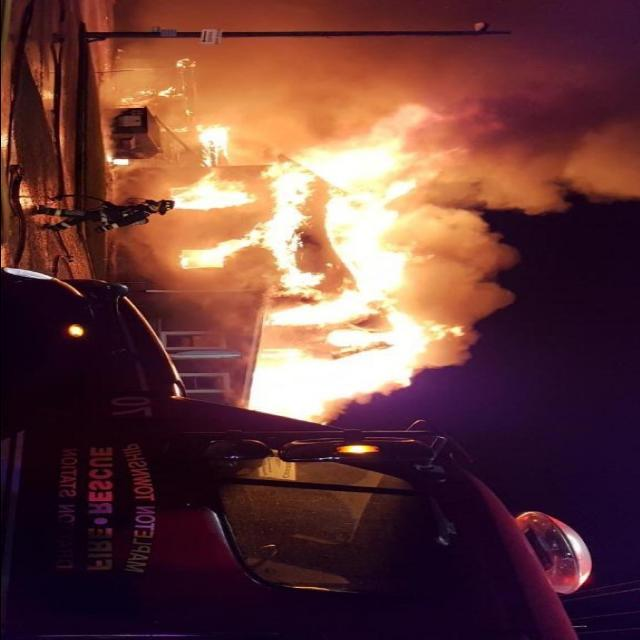Fire: (183, 105, 464, 429), (156, 86, 184, 98), (176, 58, 198, 70)
